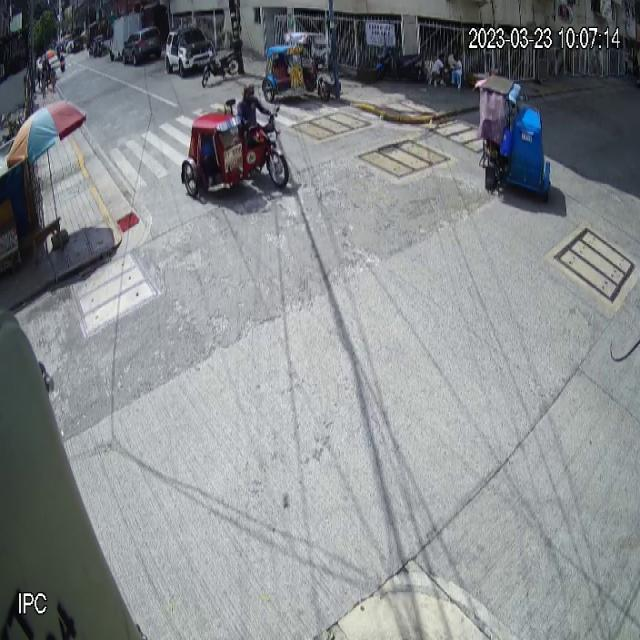Motorcycle: (201, 37, 243, 88)
Tricycle: (180, 100, 290, 198), (477, 70, 552, 204), (262, 32, 331, 103)
